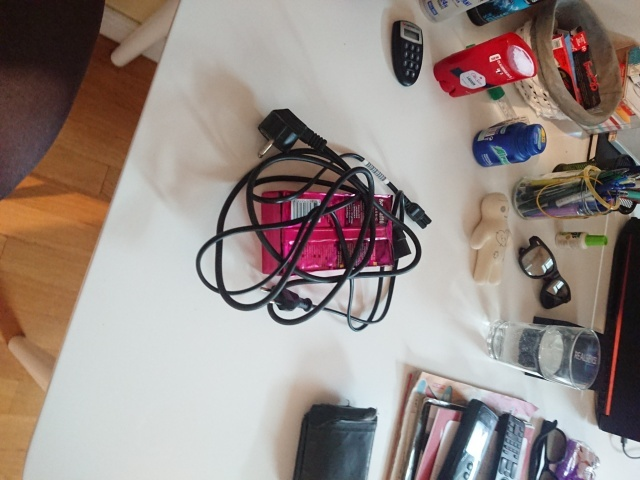Barcaffe Classic Original 225g: (259, 187, 397, 278)
